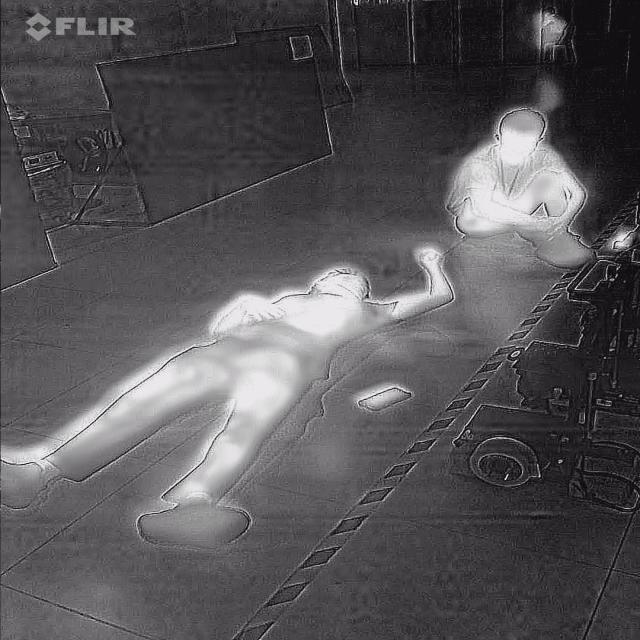Victim: (3, 239, 461, 552), (439, 97, 601, 268)
